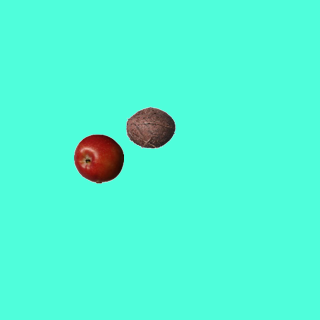Apple Braeburn: (73, 133, 123, 183)
Cocos: (125, 102, 175, 152)
